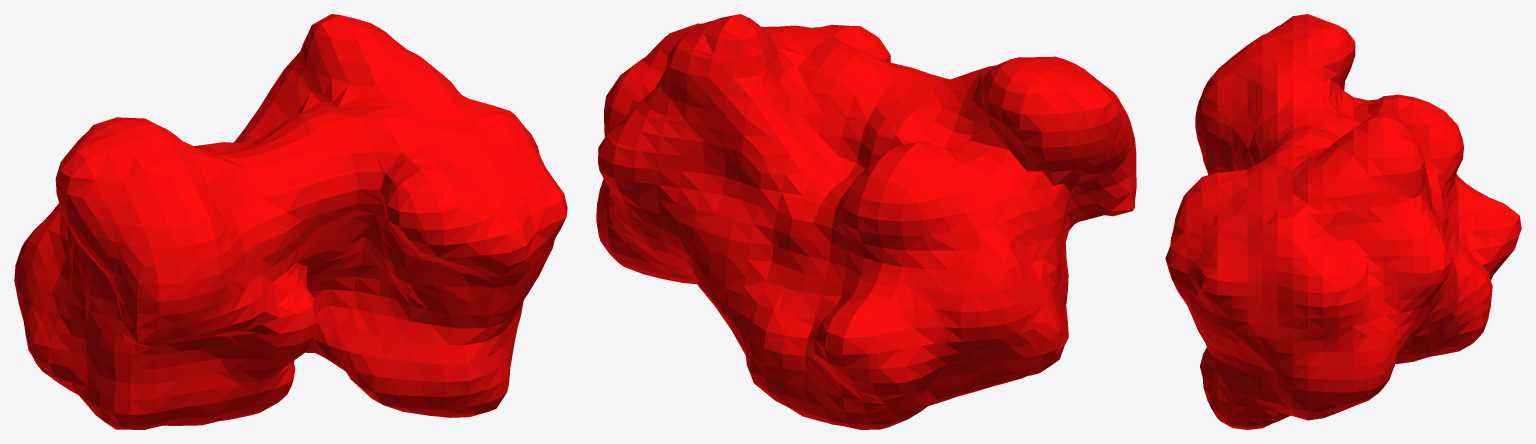
The model's file is rfaQ_coarse.dae.
3 views of the same model, side by side, from view 1: azimuth 30°, elevation 25°; view 2: azimuth 150°, elevation 25°; view 3: azimuth 270°, elevation 25° (orthographic). The views are drawn at different scales.
Parts seen in each view (by area): view 1: rfaQ; view 2: rfaQ; view 3: rfaQ.
Boxes of the visible parts, <box> form: rfaQ: <box>14,14,567,429</box>; rfaQ: <box>596,14,1136,429</box>; rfaQ: <box>1165,14,1521,429</box>.
Size of the model in its own units: 70.83 by 48.28 by 53.7.
